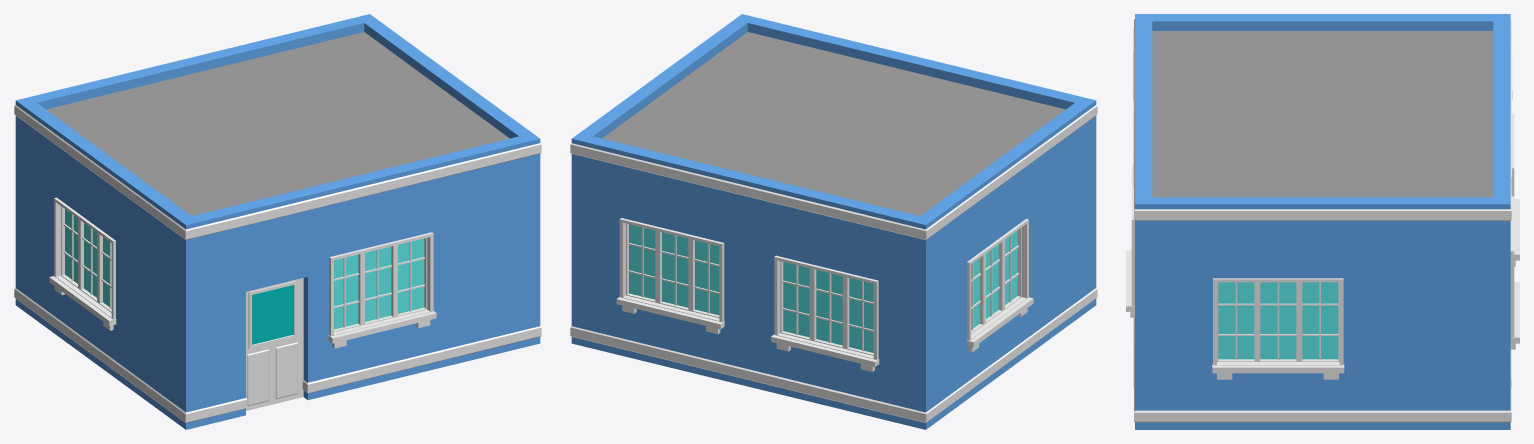
Rendered from SM_House_10_04.FBX.
3 renders of one model, left to right at view 1: azimuth 30°, elevation 25°; view 2: azimuth 150°, elevation 25°; view 3: azimuth 270°, elevation 25°, orthographic. The views are drawn at different scales.
Visible parts, largest first — view 1: SM_House_10_04; view 2: SM_House_10_04; view 3: SM_House_10_04.
Boxes of the visible parts, bbox=[...] form: SM_House_10_04: bbox=[14, 14, 541, 429]; SM_House_10_04: bbox=[570, 14, 1097, 429]; SM_House_10_04: bbox=[1126, 14, 1519, 429].
Bounding box in the file's own units: 6.23 × 3.32 × 5.25.
1 material, 1 textured.
